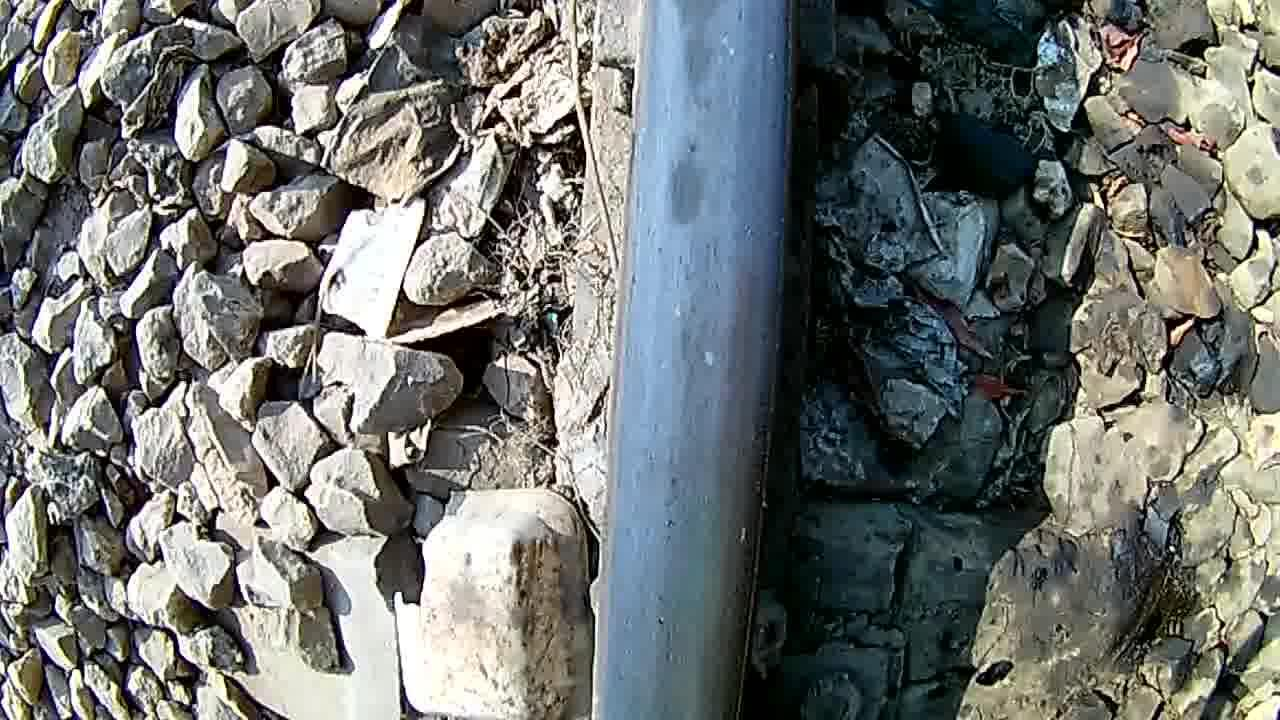bolt_missing: (636, 0, 808, 352)
